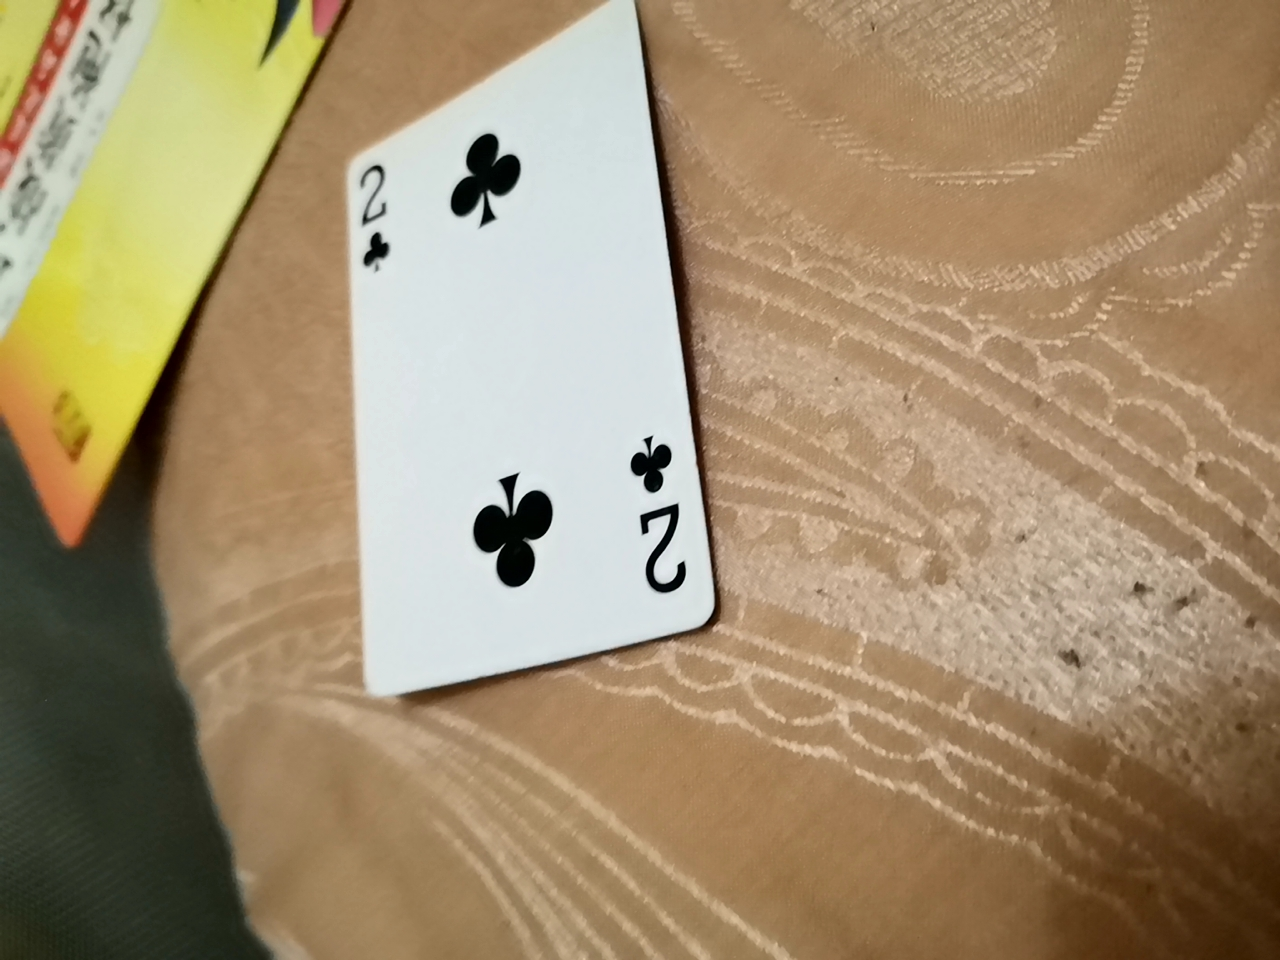mh 2: (336, 30, 690, 692)
